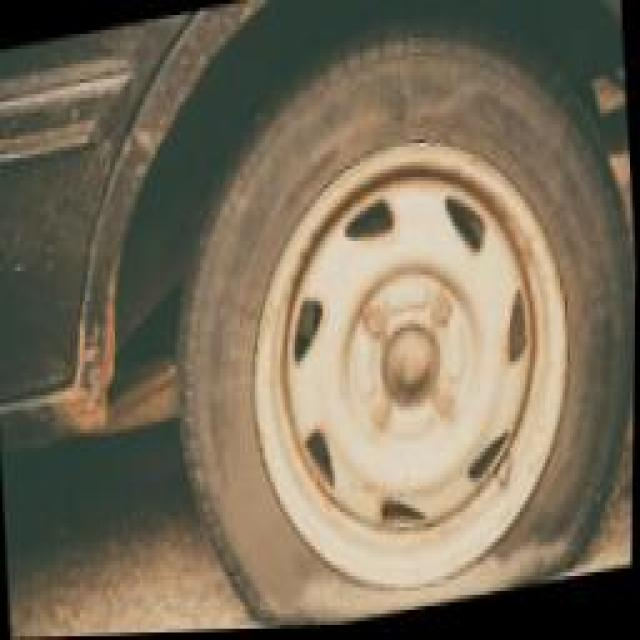Fender: (0, 19, 167, 488)
